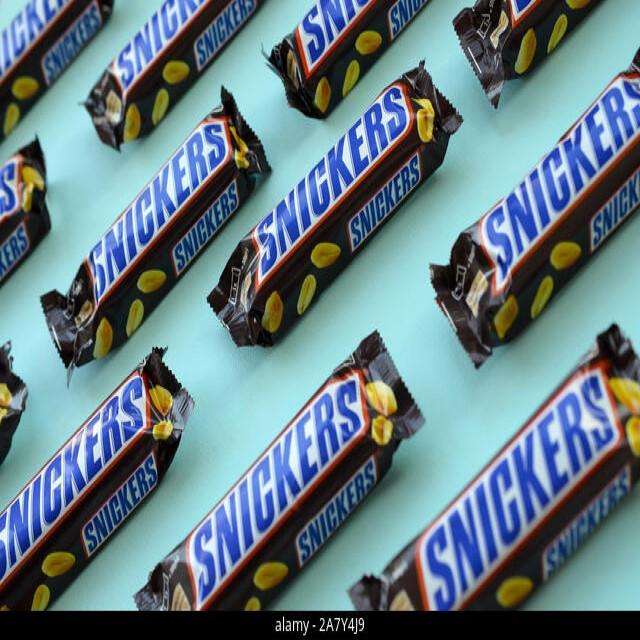snickers_chocolate: (137, 328, 417, 632), (372, 338, 637, 618), (423, 48, 640, 370), (217, 60, 462, 337), (40, 102, 273, 360), (0, 347, 177, 612), (87, 0, 262, 142), (262, 0, 437, 122), (0, 3, 102, 130)
